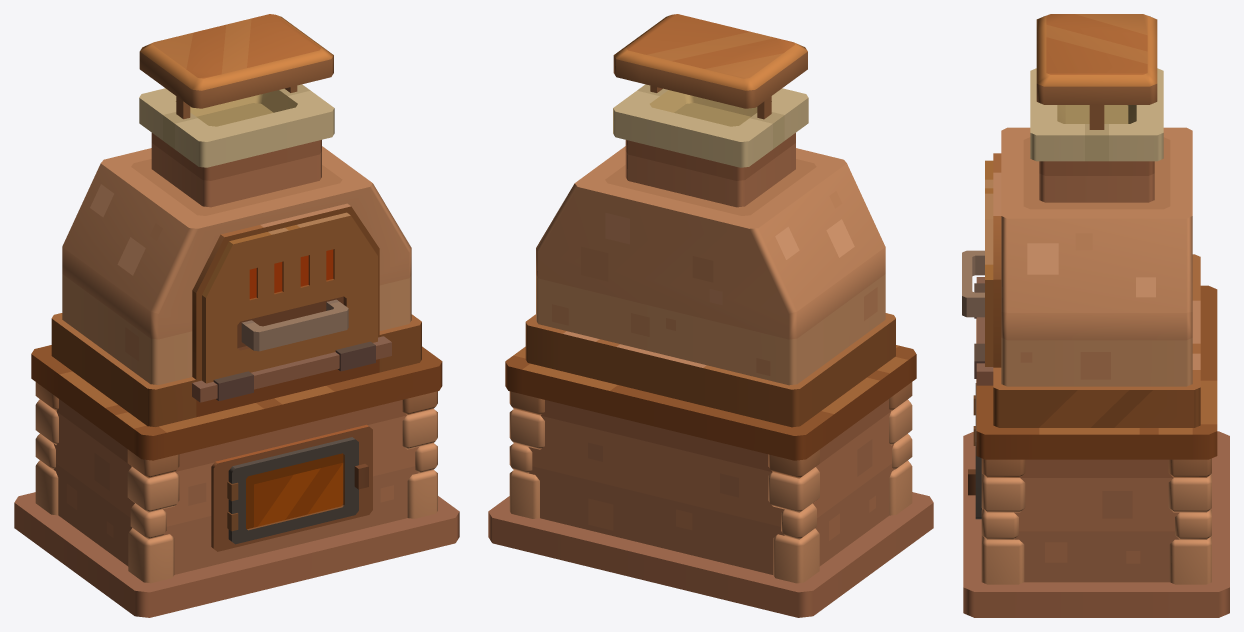
Rendered from gdOvenBronze.obj.
3 views of the same model, side by side, from view 1: azimuth 30°, elevation 25°; view 2: azimuth 150°, elevation 25°; view 3: azimuth 270°, elevation 25° (orthographic).
Parts seen in each view (by area): view 1: gdOvenBronze, gdOvenBronze_LidUp, gdOvenBronze_LidDown; view 2: gdOvenBronze; view 3: gdOvenBronze, gdOvenBronze_LidUp, gdOvenBronze_LidDown.
Boxes of the visible parts, left/top/right/bottom form: gdOvenBronze: left=14, top=14, right=459, bottom=617; gdOvenBronze_LidUp: left=192, top=212, right=391, bottom=402; gdOvenBronze_LidDown: left=227, top=437, right=368, bottom=544; gdOvenBronze: left=488, top=14, right=933, bottom=617; gdOvenBronze: left=963, top=14, right=1229, bottom=617; gdOvenBronze_LidUp: left=962, top=160, right=993, bottom=385; gdOvenBronze_LidDown: left=968, top=383, right=981, bottom=519.
Size of the model in its own units: 5.08 by 7.27 by 3.58.
